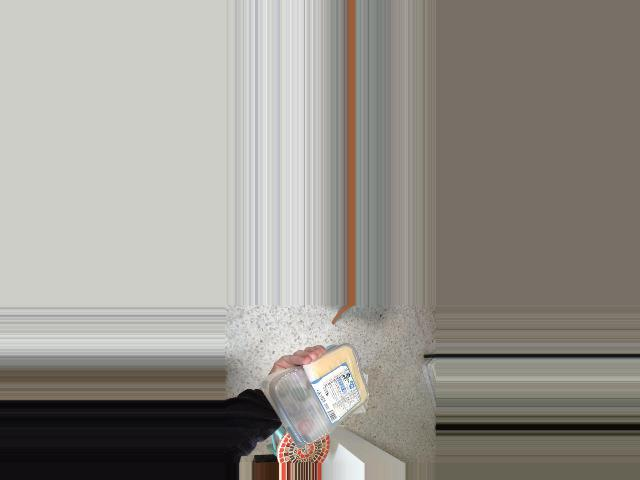cheese: (272, 355, 378, 449)
